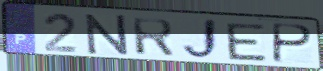2: (41, 12, 80, 54)
E: (223, 22, 269, 63)
J: (180, 18, 221, 63)
N: (83, 13, 131, 56)
P: (270, 22, 315, 66)
R: (130, 17, 176, 59)
